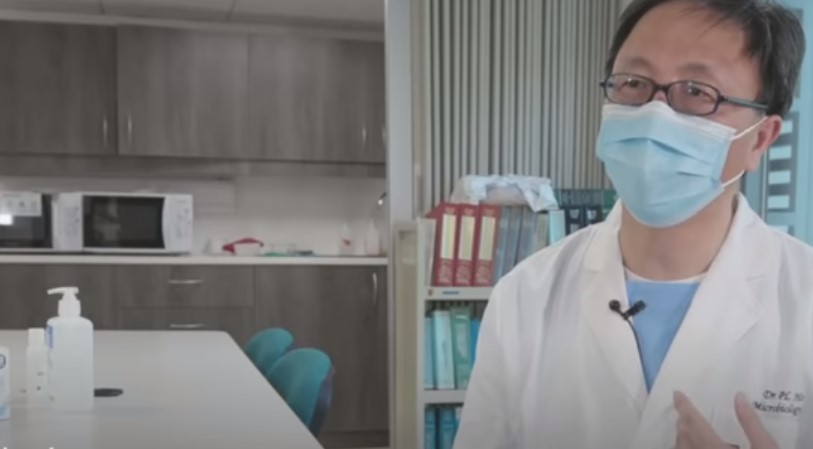face_with_mask: (598, 4, 785, 227)
